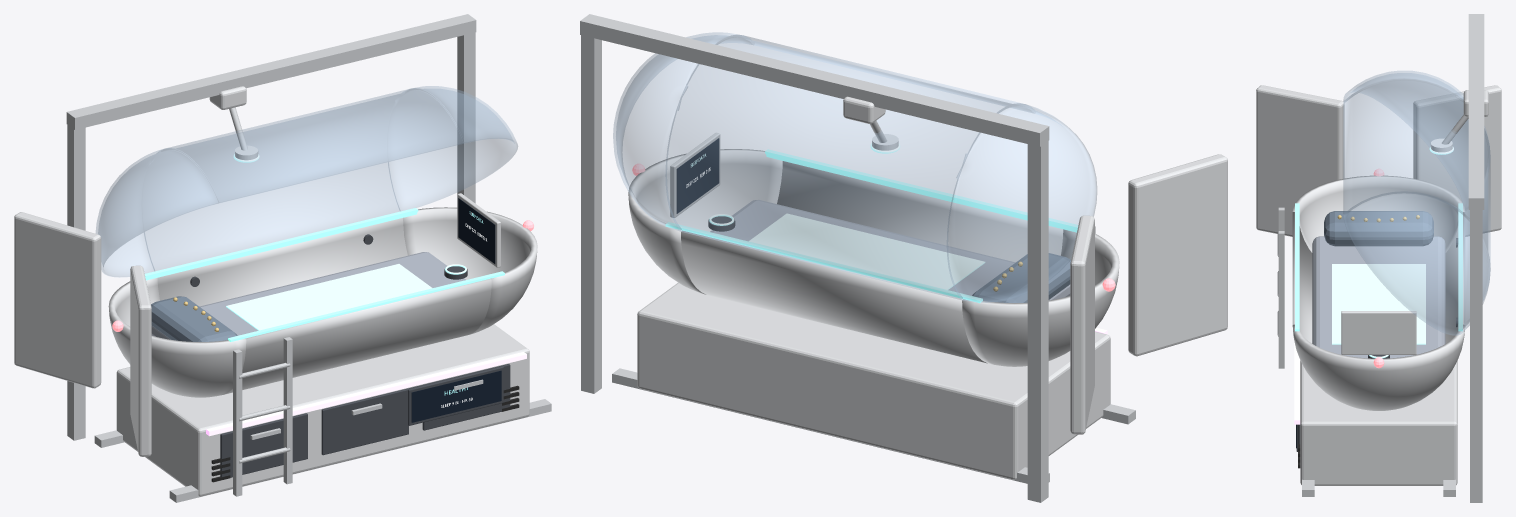
The model's file is recovery_pod_healthy.glb.
3 renders of one model, left to right at view 1: azimuth 30°, elevation 25°; view 2: azimuth 150°, elevation 25°; view 3: azimuth 270°, elevation 25°, orthographic. The views are drawn at different scales.
Parts seen in each view (by area): view 1: Drawer_Handle, Smart_Canopy, Pod_Shell, Projector_Ring, Circadian_Strip, Aurora_Strip; view 2: Drawer_Handle, Smart_Canopy, Pod_Shell, Projector_Ring, Circadian_Strip; view 3: Drawer_Handle, Smart_Canopy, Pod_Shell, Projector_Ring, Circadian_Strip, Aurora_Strip.
Part boxes in pixels (x1,y1,x2,y2): Drawer_Handle: [14, 14, 551, 502]; Smart_Canopy: [96, 86, 517, 277]; Pod_Shell: [108, 207, 537, 397]; Projector_Ring: [226, 154, 483, 330]; Circadian_Strip: [112, 208, 533, 395]; Aurora_Strip: [206, 352, 526, 436]; Drawer_Handle: [580, 14, 1227, 502]; Smart_Canopy: [613, 32, 1096, 302]; Pod_Shell: [628, 149, 1119, 366]; Projector_Ring: [691, 143, 985, 289]; Circadian_Strip: [632, 149, 1115, 303]; Drawer_Handle: [1256, 14, 1501, 502]; Smart_Canopy: [1343, 71, 1490, 335]; Pod_Shell: [1292, 175, 1464, 410]; Projector_Ring: [1332, 147, 1453, 358]; Circadian_Strip: [1295, 168, 1462, 368]; Aurora_Strip: [1294, 341, 1300, 424].
Size of the model in its own units: 3.16 by 2.14 by 1.56.
Materials: 7 (7 with a texture image).
